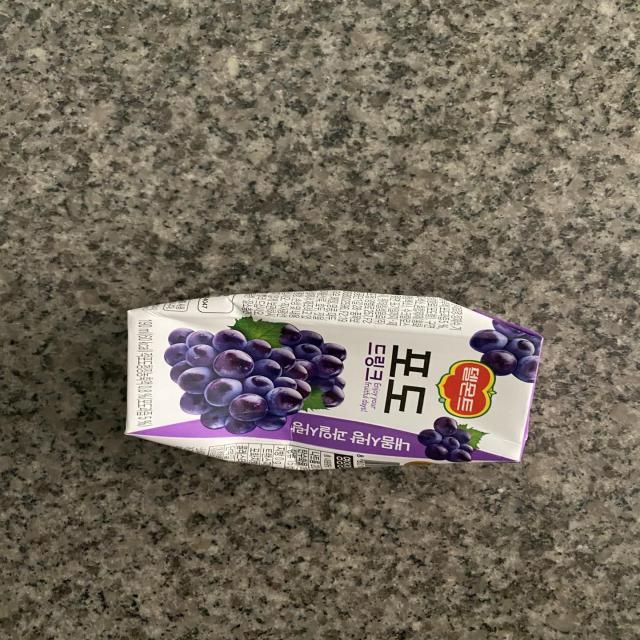paperpack: (126, 291, 544, 471)
